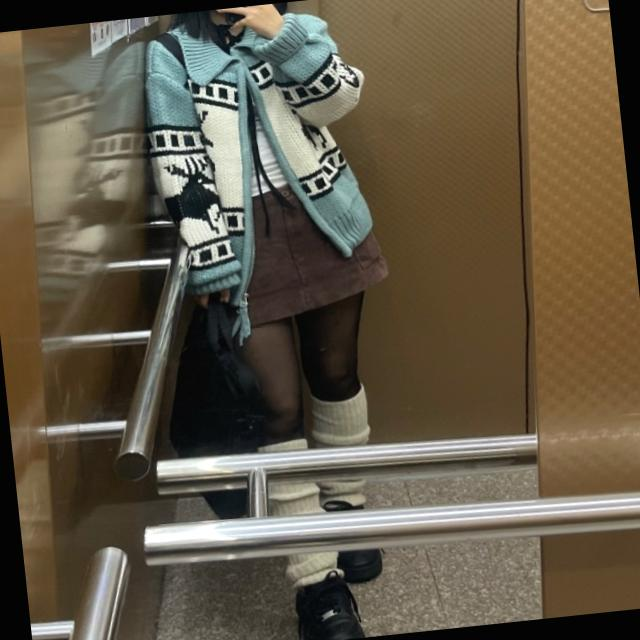cardigan: (142, 5, 386, 296)
skirt: (229, 170, 390, 326)
